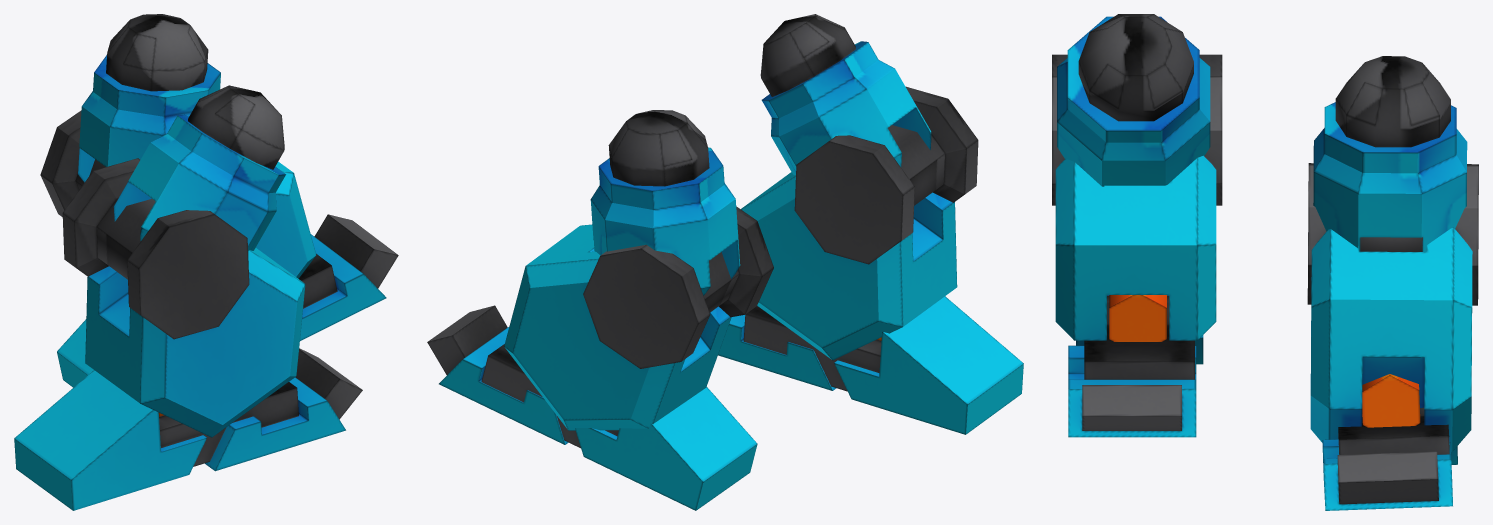
The model's file is Bottom_Idle13.obj.
3 renders of one model, left to right at view 1: azimuth 30°, elevation 25°; view 2: azimuth 150°, elevation 25°; view 3: azimuth 270°, elevation 25°, orthographic. The views are drawn at different scales.
Visible parts, largest first — view 1: Object013, Object014, Object012, Object009, Object011, Object010; view 2: Object013, Object010, Object014, Object011, Object009, Object012; view 3: Object010, Object013, Object009, Object012, Object014, Object011.
Boxes of the visible parts, x1,y1,x2,y2 form: Object013: [62, 158, 305, 437]; Object014: [14, 348, 362, 510]; Object012: [113, 85, 285, 251]; Object009: [78, 14, 220, 182]; Object011: [57, 214, 398, 387]; Object010: [40, 110, 316, 278]; Object013: [741, 86, 978, 360]; Object010: [504, 206, 773, 430]; Object014: [718, 296, 1023, 434]; Object011: [427, 305, 757, 510]; Object009: [590, 110, 740, 295]; Object012: [760, 14, 931, 175]; Object010: [1307, 163, 1478, 451]; Object013: [1052, 54, 1222, 340]; Object009: [1313, 56, 1467, 251]; Object012: [1057, 14, 1210, 186]; Object014: [1068, 295, 1203, 437]; Object011: [1322, 374, 1457, 510].
Size of the model in its own units: 127 by 107 by 94.65.
